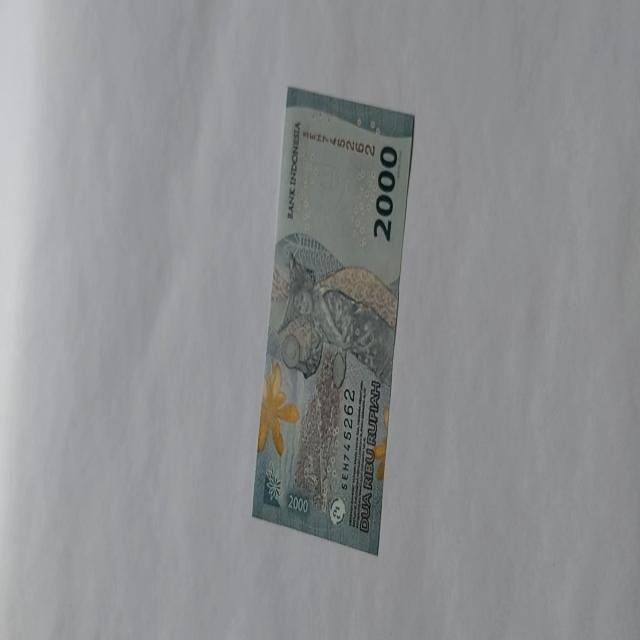dua ribu rupiah: (250, 85, 416, 556), (268, 233, 398, 522)
